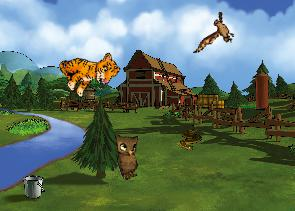eagle: (193, 7, 239, 61)
owl: (109, 128, 150, 181)
tiger: (53, 36, 123, 104)
